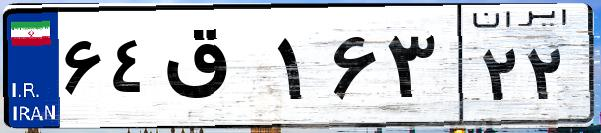1: (270, 28, 330, 110)
2: (475, 38, 525, 113), (525, 38, 570, 115)
3: (385, 28, 445, 110)
4: (110, 28, 158, 98)
6: (330, 28, 385, 110), (57, 26, 110, 100)
ق: (158, 20, 270, 120)
